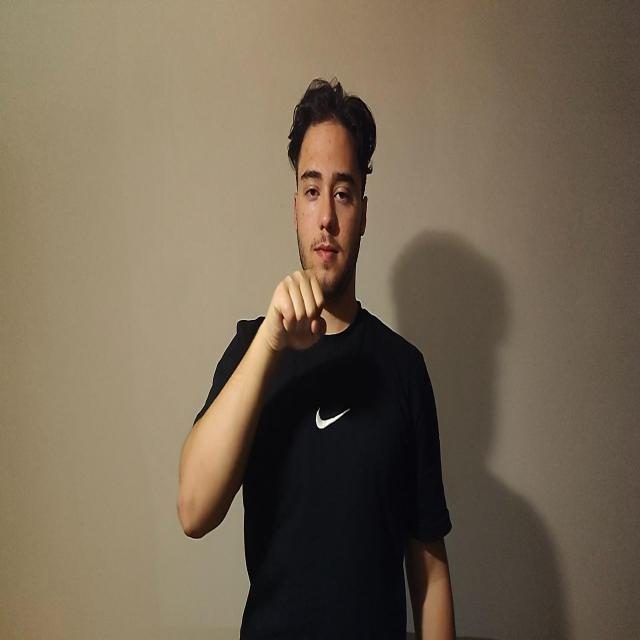yes: (264, 268, 327, 353)
